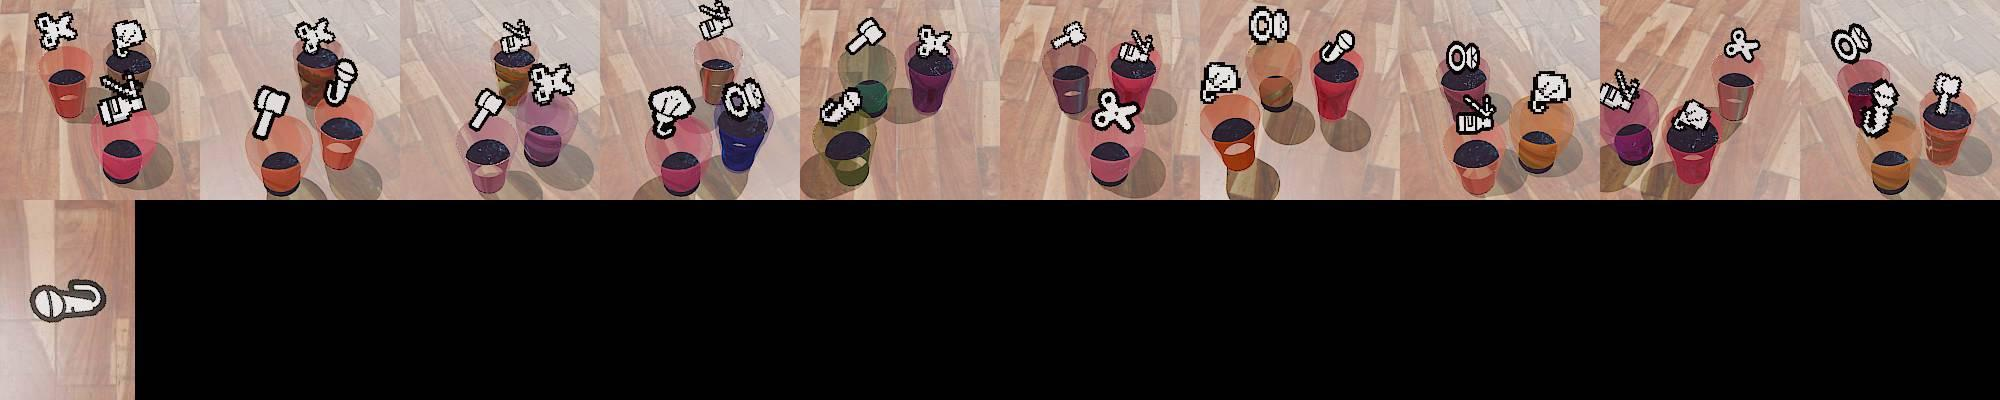icon: (26, 278, 106, 324), (96, 71, 147, 126), (648, 85, 696, 139), (1858, 78, 1899, 138), (1092, 87, 1142, 132), (250, 84, 291, 139), (528, 61, 575, 106), (1598, 68, 1644, 112), (1199, 60, 1242, 106), (1527, 70, 1570, 113), (723, 75, 765, 118), (1247, 4, 1291, 46), (1455, 90, 1497, 134), (1832, 22, 1874, 64), (34, 10, 78, 51), (468, 87, 506, 131), (819, 87, 862, 125), (325, 57, 358, 107), (1929, 71, 1963, 118), (844, 15, 885, 55), (295, 18, 334, 57), (696, 0, 733, 41), (1722, 25, 1761, 62), (111, 18, 147, 59), (915, 24, 954, 60), (1319, 29, 1356, 66), (1445, 41, 1481, 75), (1119, 31, 1154, 65), (1675, 98, 1710, 131), (1050, 20, 1088, 51), (500, 19, 532, 55)
